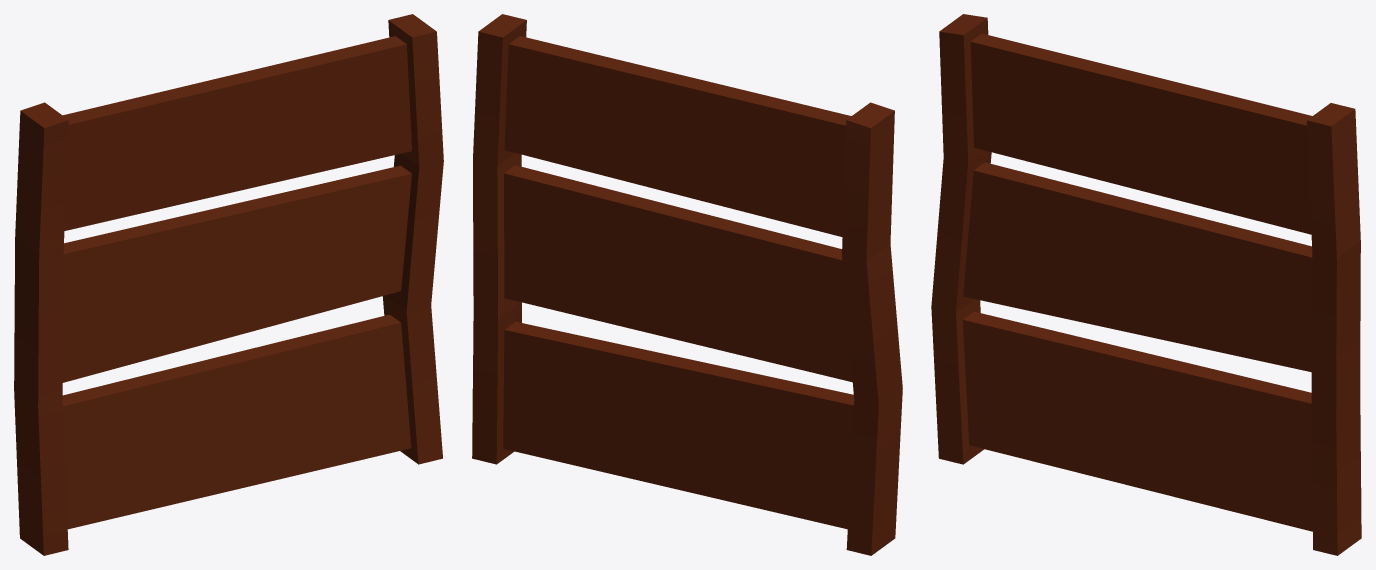
The model's file is WallNarrow.FBX.
The picture shows the model from 3 angles, left to right: view 1: azimuth 30°, elevation 25°; view 2: azimuth 150°, elevation 25°; view 3: azimuth 330°, elevation 25°; orthographic projection.
Parts seen in each view (by area): view 1: WallNarrow; view 2: WallNarrow; view 3: WallNarrow.
Part boxes in pixels (x1,y1,x2,y2): WallNarrow: (14,14,443,555); WallNarrow: (472,14,902,555); WallNarrow: (931,14,1361,555).
Size of the model in its own units: 2.58 by 2.61 by 0.3315.
